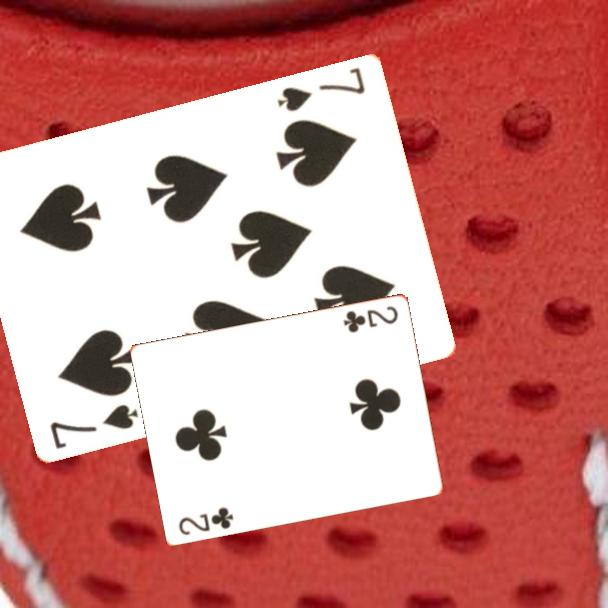c02: (175, 503, 237, 538), (340, 302, 401, 335)
s07: (47, 400, 142, 452), (274, 63, 369, 114)
